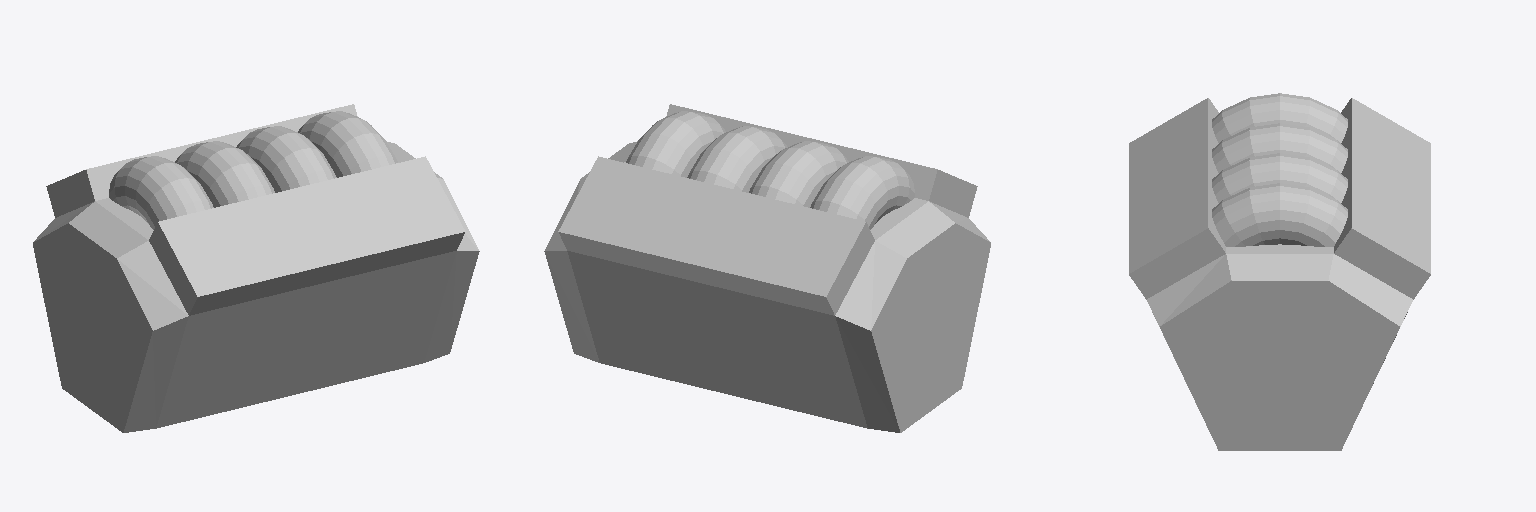
The model's file is SpeedUpgradeC.obj.
3 views of the same model, side by side, from view 1: azimuth 30°, elevation 25°; view 2: azimuth 150°, elevation 25°; view 3: azimuth 270°, elevation 25° (orthographic).
Visible parts, largest first — view 1: pTorus25 Speed_UpgradeC_Parts; view 2: pTorus25 Speed_UpgradeC_Parts; view 3: pTorus25 Speed_UpgradeC_Parts.
Boxes of the visible parts, x1,y1,x2,y2 form: pTorus25 Speed_UpgradeC_Parts: [33, 104, 479, 432]; pTorus25 Speed_UpgradeC_Parts: [544, 104, 990, 432]; pTorus25 Speed_UpgradeC_Parts: [1129, 93, 1430, 450].
Bounding box in the file's own units: 1.09 × 0.7346 × 0.8768.